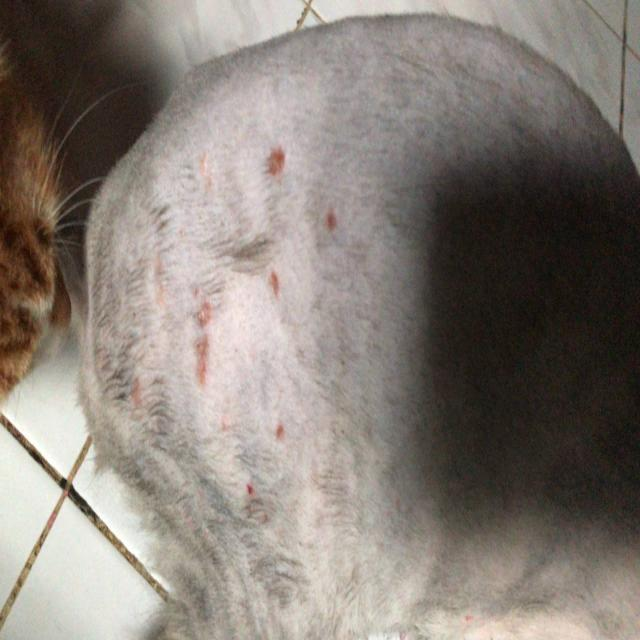hac lao: (168, 292, 240, 408), (228, 133, 326, 195)
